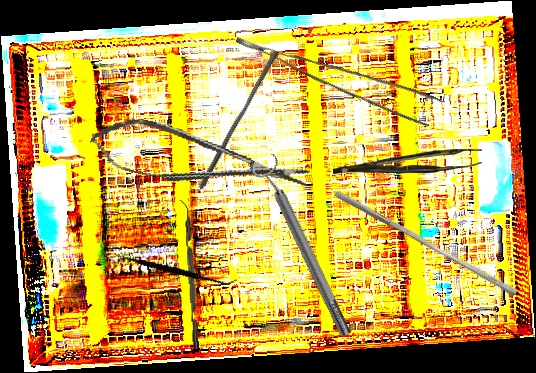Chopper: (178, 199, 199, 350)
Fixation Ring: (247, 151, 360, 343)
Micro Scissor: (85, 108, 314, 212)
Pusher: (329, 189, 522, 298), (197, 47, 280, 193)
Spatula Surgical: (106, 218, 238, 320)
Tissue Forceps: (235, 5, 442, 137), (333, 149, 482, 174)
